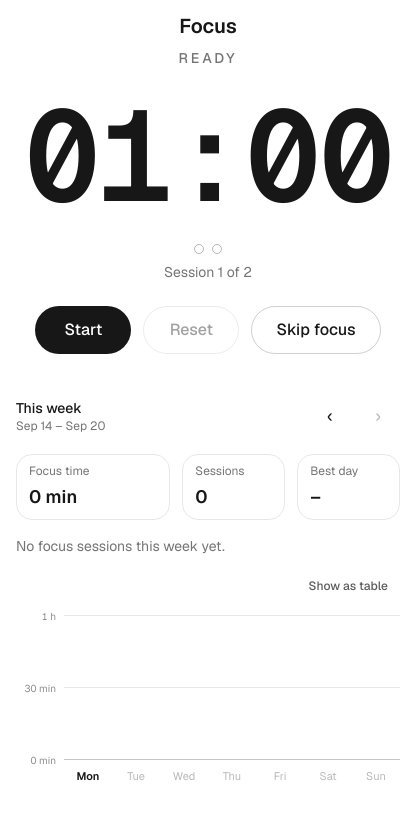
Test: the full cycle › shows the long break's own length and session numbers that start over
Click the button "Start". click: click(83, 330)
box: [35,306,131,354]
Wait 60000 ms
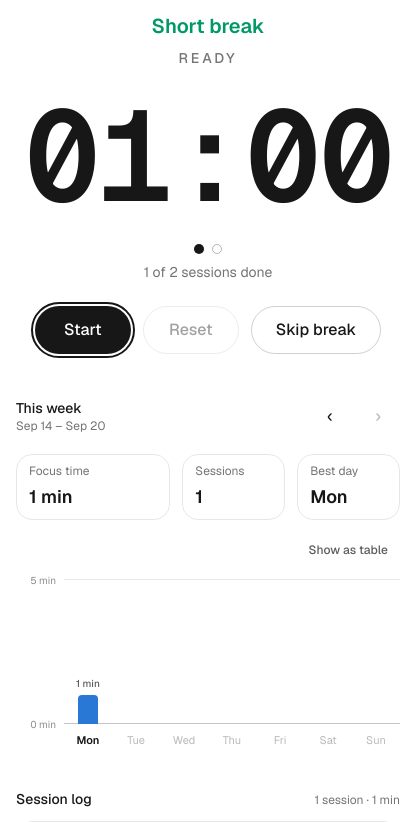
Click the button "Start". click: click(83, 330)
box: [35,306,131,354]
Wait 60000 ms
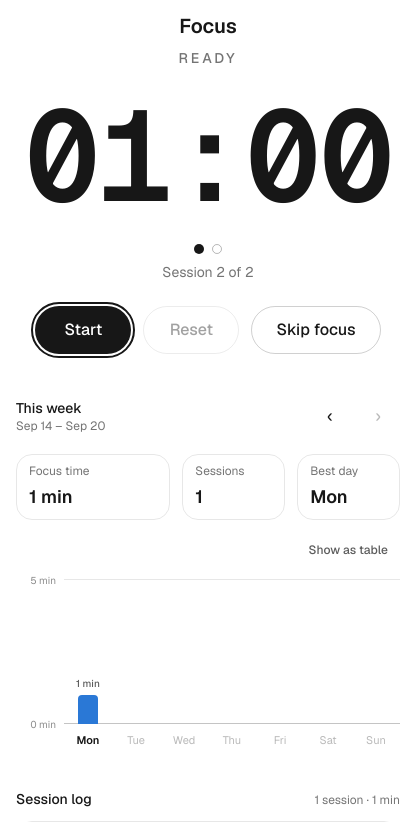
expect the text "Session 2 of 2" is shown: met, box [162,262,254,282]
Click the button "Start". click: click(83, 330)
box: [35,306,131,354]
Wait 60000 ms
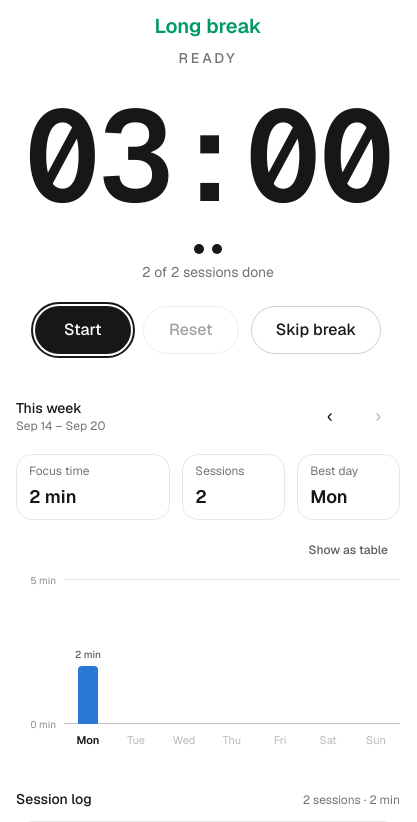
expect the text "03:00" is shown: met, box [24,92,392,220]
expect the text "2 of 2 sessions done" is shown: met, box [142,262,274,282]
Click the button "Start". click: click(83, 330)
box: [35,306,131,354]
Wait 180000 ms
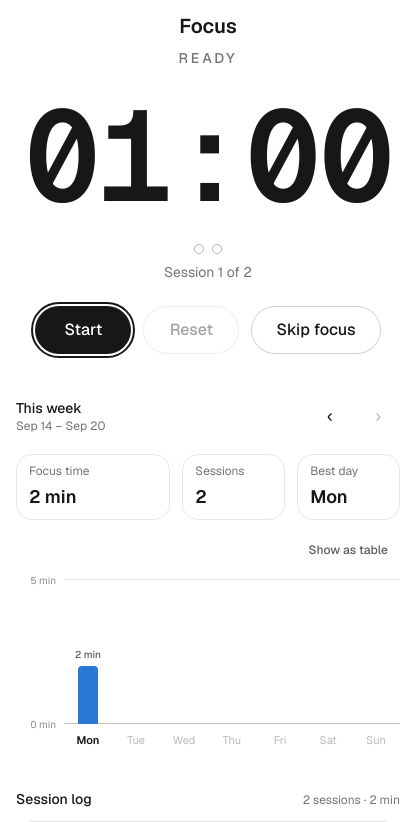
expect the text "Session 1 of 2" is shown: met, box [164,262,252,282]
